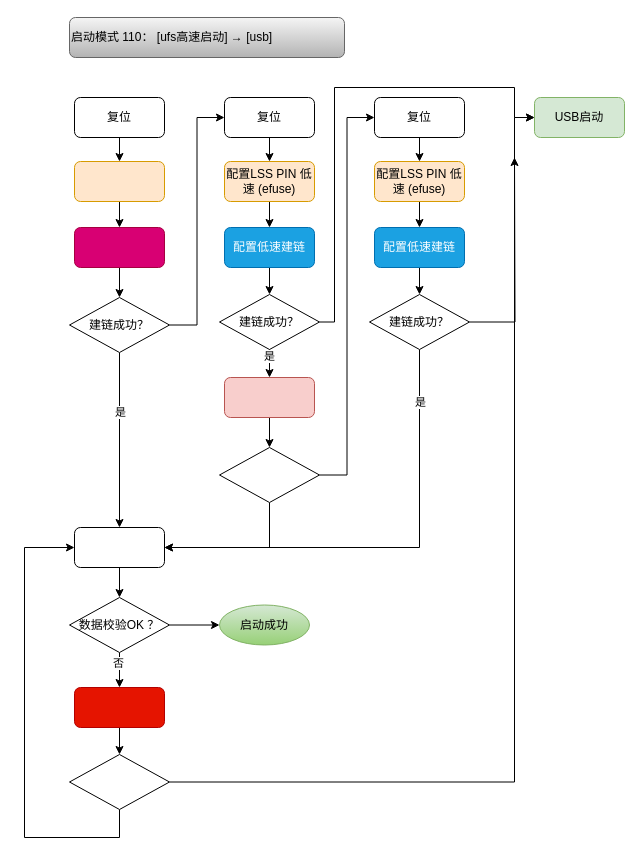
Image size: 642x863. Some labels were removed from this diagram. The box of each missing label's shape, as (x1, y1, x2, y2) in pixels:
两个分区都失败？: (68, 754, 170, 810)
切分区: (74, 686, 164, 728)
切速率成功？: (218, 446, 320, 502)
发命令切高速 HS-G1: (224, 376, 314, 418)
读数据: (74, 526, 164, 568)
配置LSS PIN高速 （efuse）: (74, 160, 164, 202)
配置高速建链: (74, 226, 164, 268)
